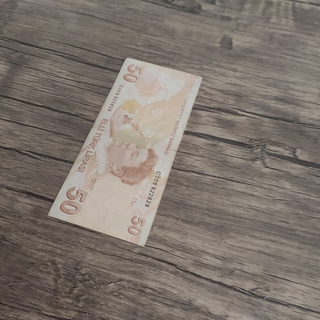50TLBack: (47, 56, 202, 247)
